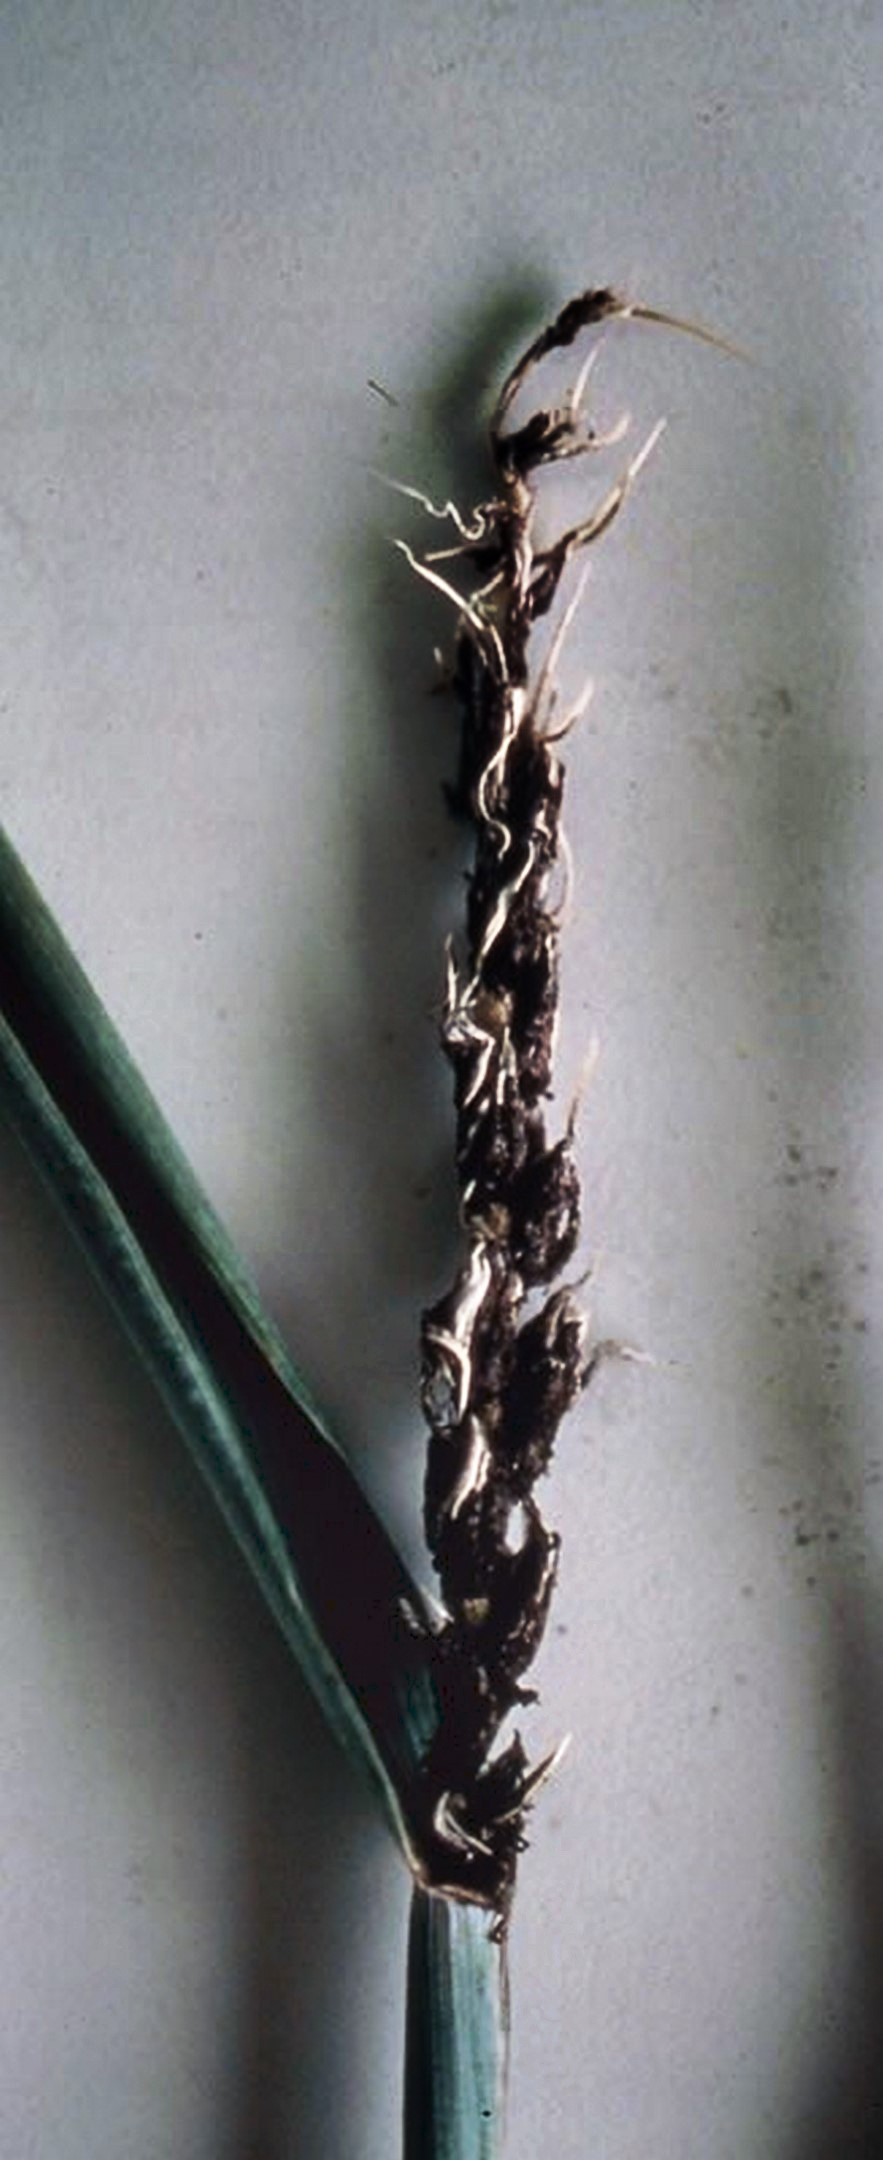Wheat Loose Smut: (276, 333, 686, 1754)
